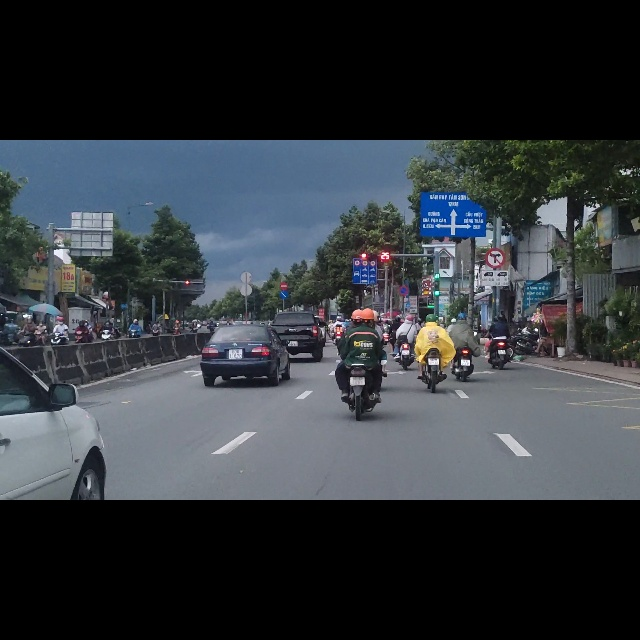bien_cam: (485, 192, 506, 227), (353, 225, 377, 255), (398, 258, 408, 278), (279, 267, 288, 283), (280, 253, 288, 265), (354, 213, 360, 224), (362, 213, 368, 223), (371, 213, 376, 224)
